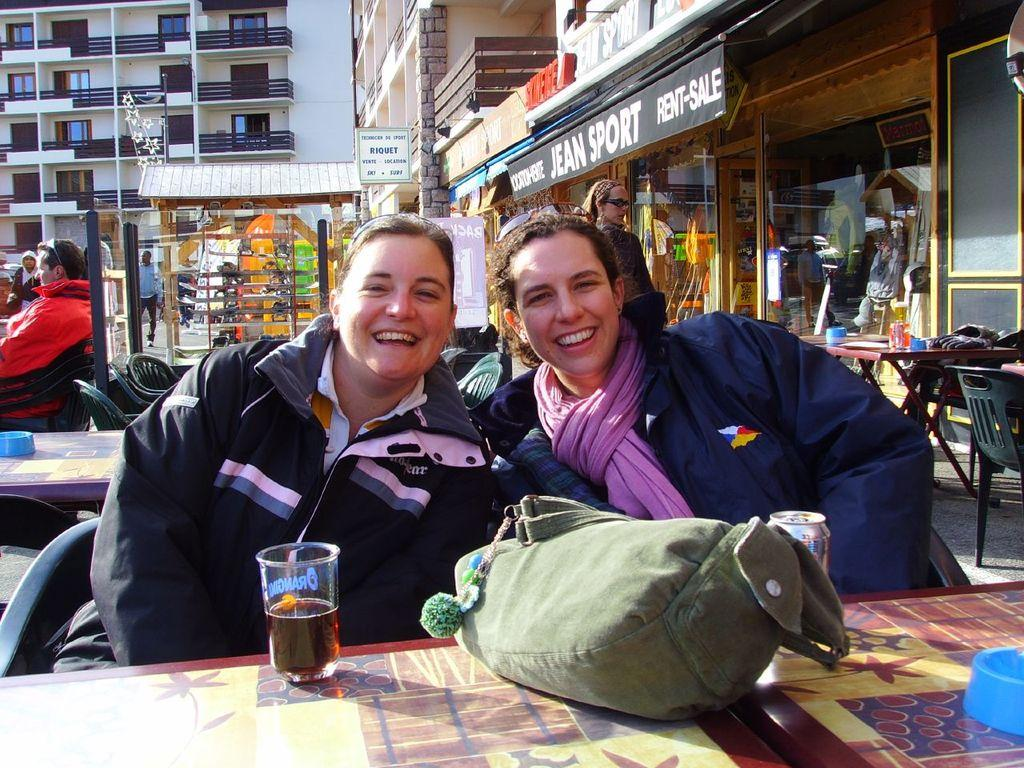Luggage-and-bags: (450, 504, 845, 733)
